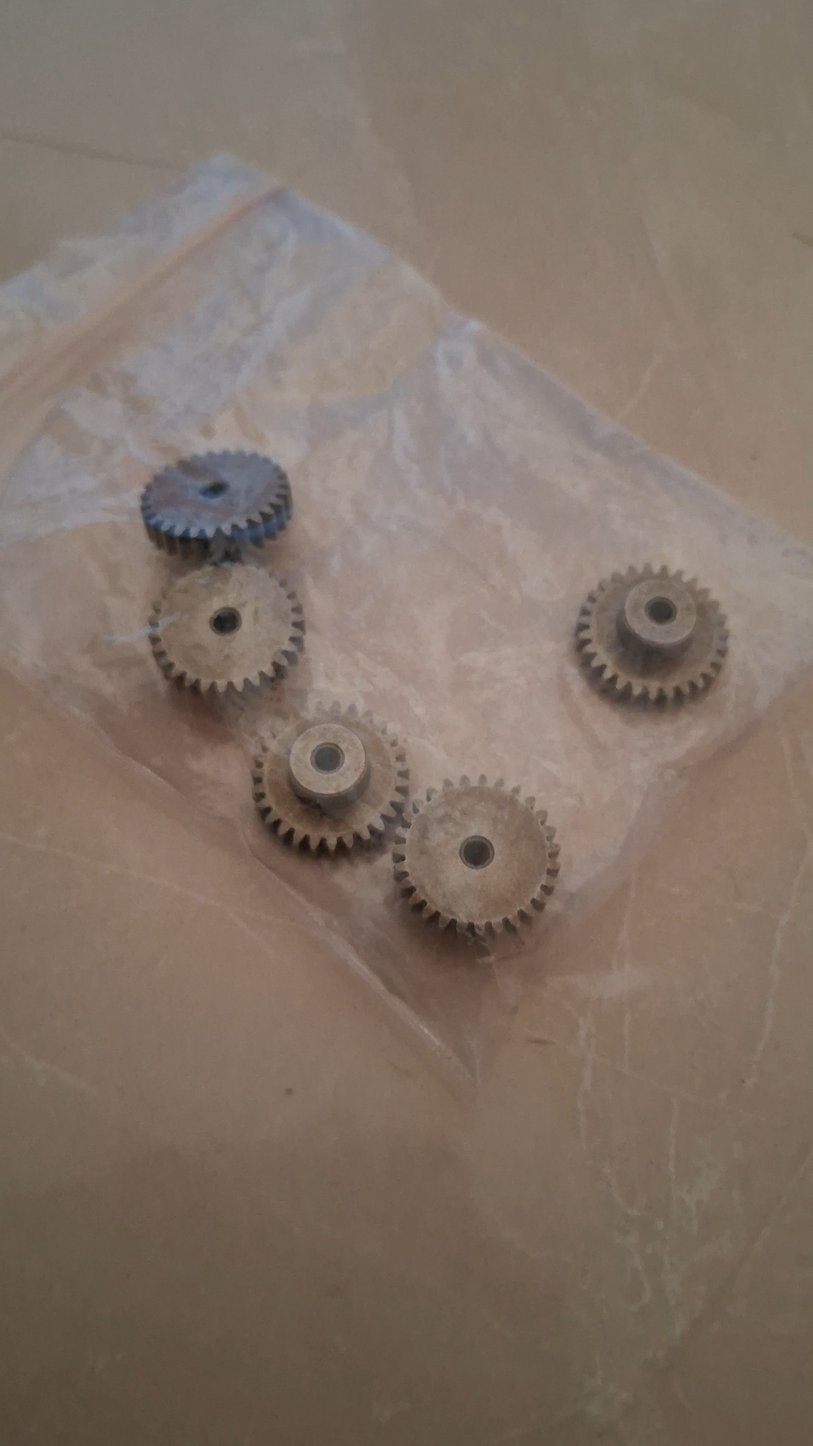spur gear: (393, 776, 559, 935), (253, 703, 408, 854), (575, 566, 728, 703), (150, 562, 304, 692), (142, 451, 291, 560)
